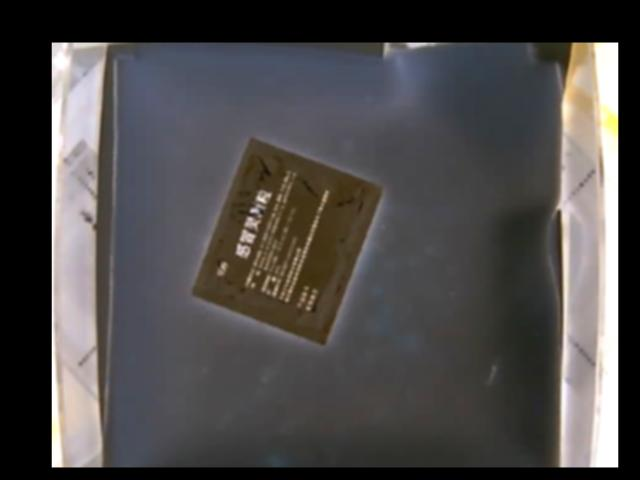Medicine: (191, 136, 385, 347)
